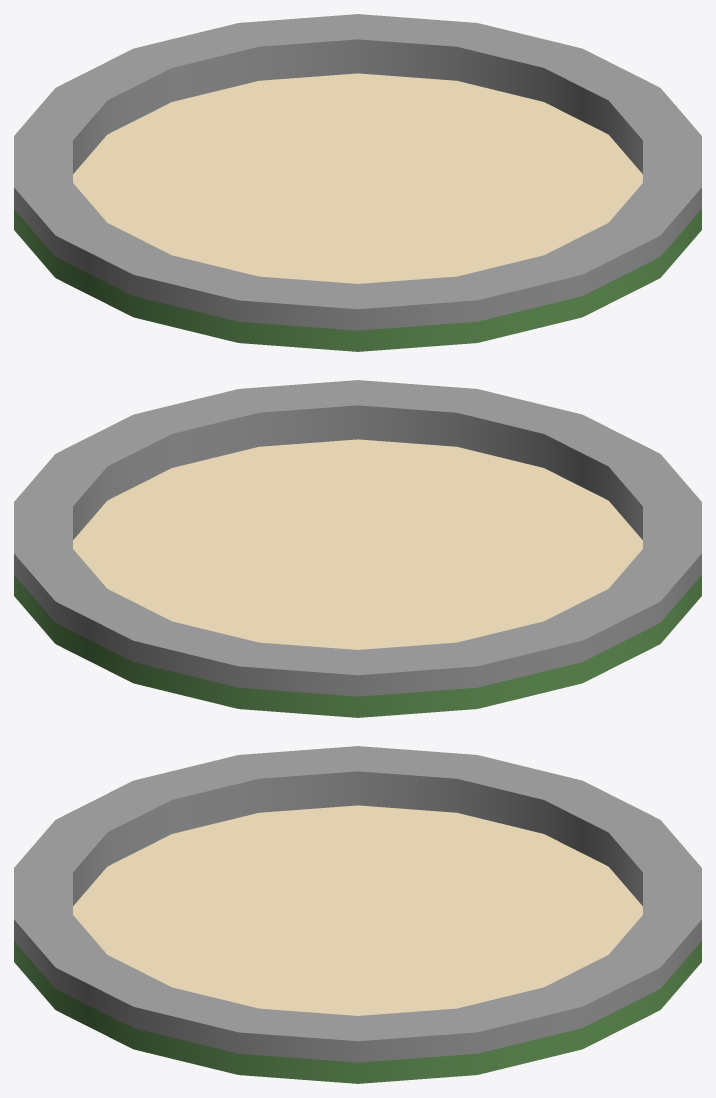
Rendered from SM_Sandbox_03.fbx.
3 views of the same model, one above another, from view 1: azimuth 30°, elevation 25°; view 2: azimuth 150°, elevation 25°; view 3: azimuth 270°, elevation 25° (orthographic).
Parts seen in each view (by area): view 1: SM_Sandbox_03; view 2: SM_Sandbox_03; view 3: SM_Sandbox_03.
Boxes of the visible parts, box(x1,y1,x2,y2) form: SM_Sandbox_03: box(14, 14, 701, 351); SM_Sandbox_03: box(14, 380, 701, 717); SM_Sandbox_03: box(14, 746, 701, 1083).
Bounding box in the file's own units: 164 × 11.05 × 162.
